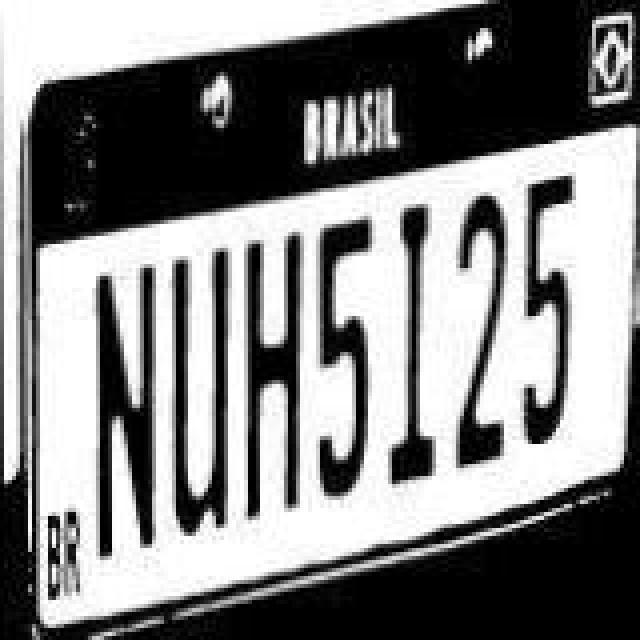2: (446, 172, 518, 456)
5: (312, 196, 380, 480), (522, 158, 586, 426)
H: (238, 214, 310, 502)
I: (382, 182, 446, 470)
N: (90, 250, 162, 558)
U: (162, 228, 234, 528)
